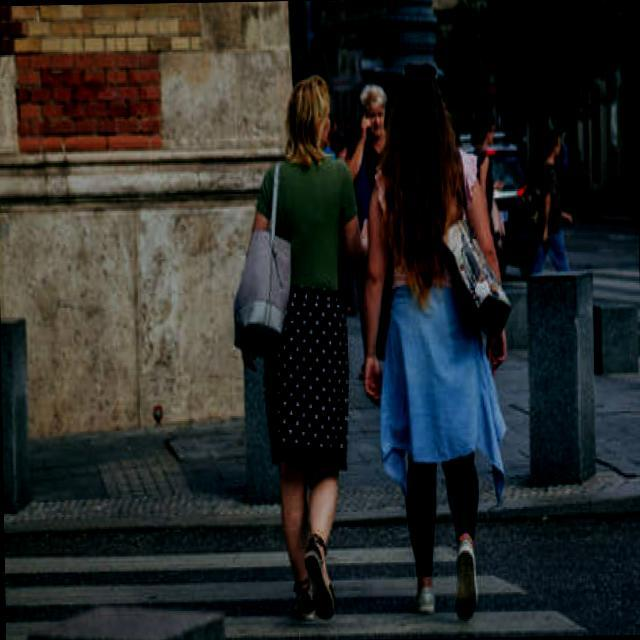person: (363, 49, 515, 634), (222, 65, 372, 626), (518, 122, 580, 281)
